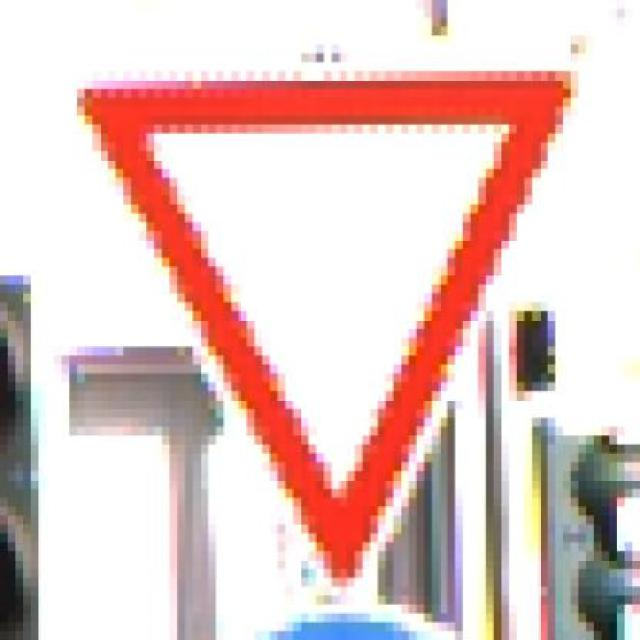Give Way: (69, 44, 617, 614)
